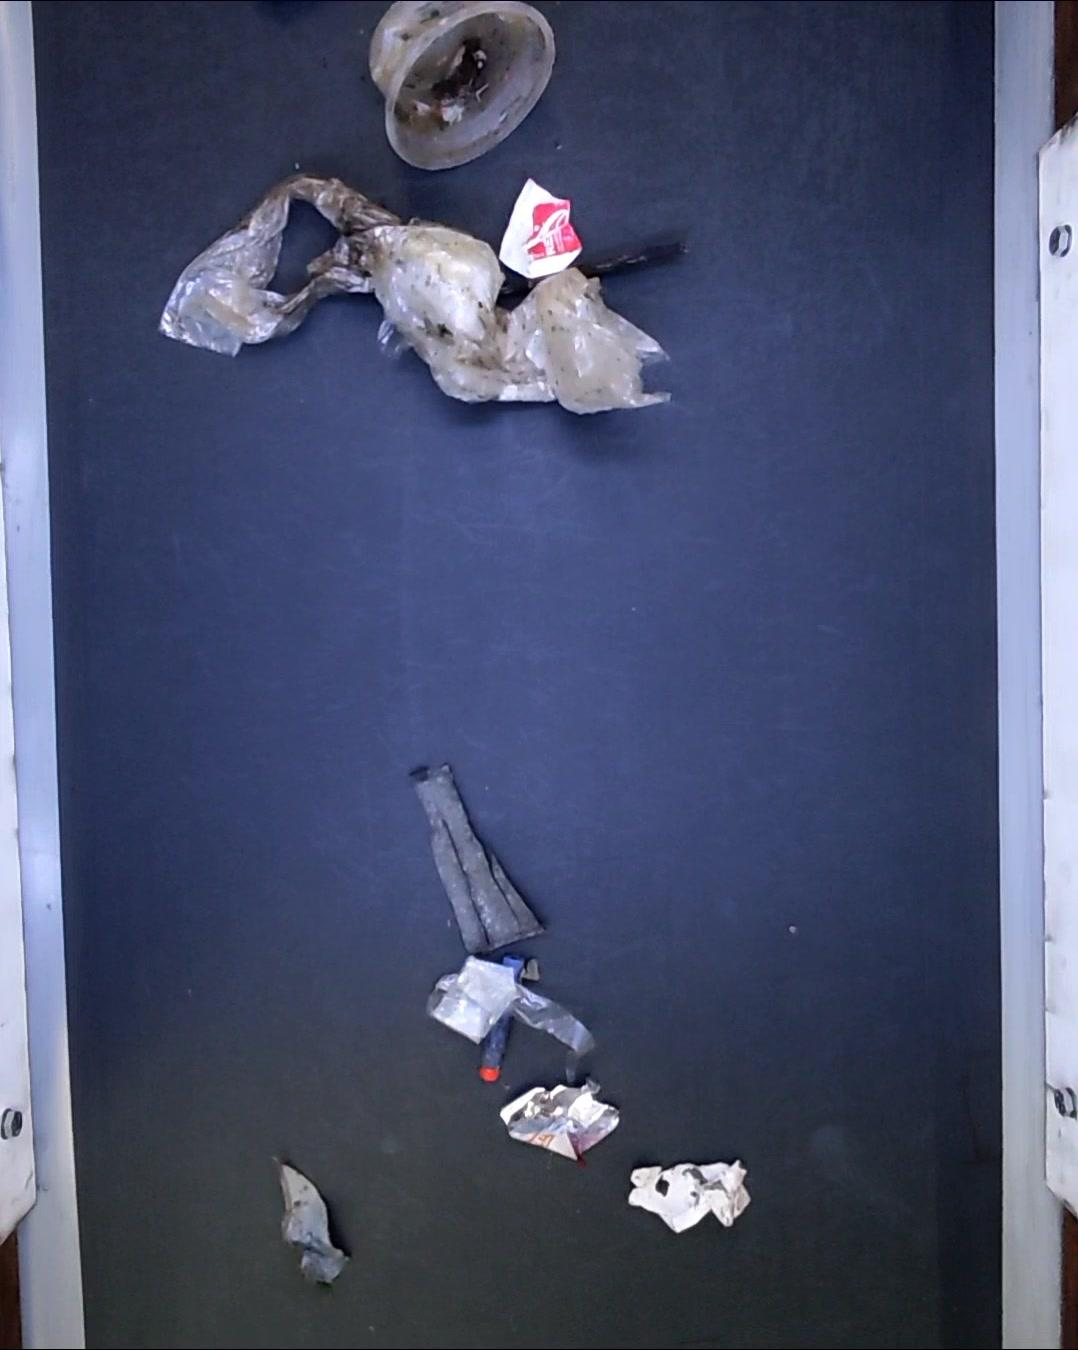Plastic folies of stukken daarvan 2.5- 50 cm: (163, 168, 674, 417), (425, 961, 597, 1058), (274, 1154, 358, 1292)
Snoep snack en chips verpakkingen: (502, 1082, 620, 1166), (497, 175, 579, 277)
Voedselverpakkingen: (371, 0, 559, 179)
